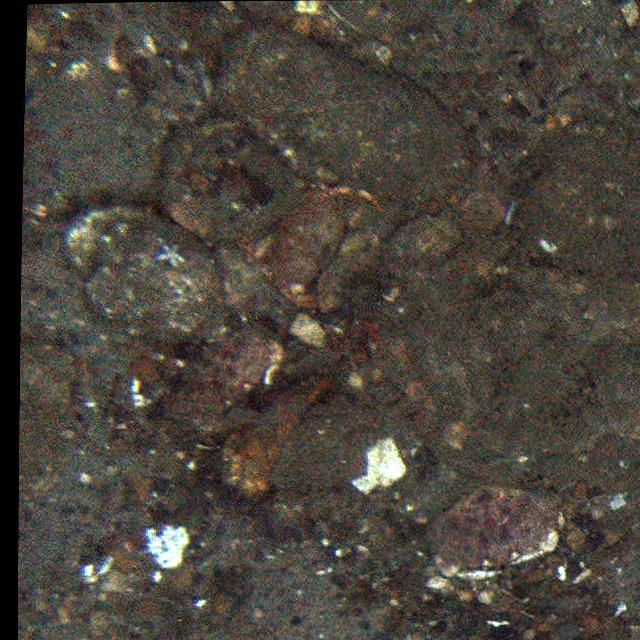crab: (246, 188, 386, 304)
